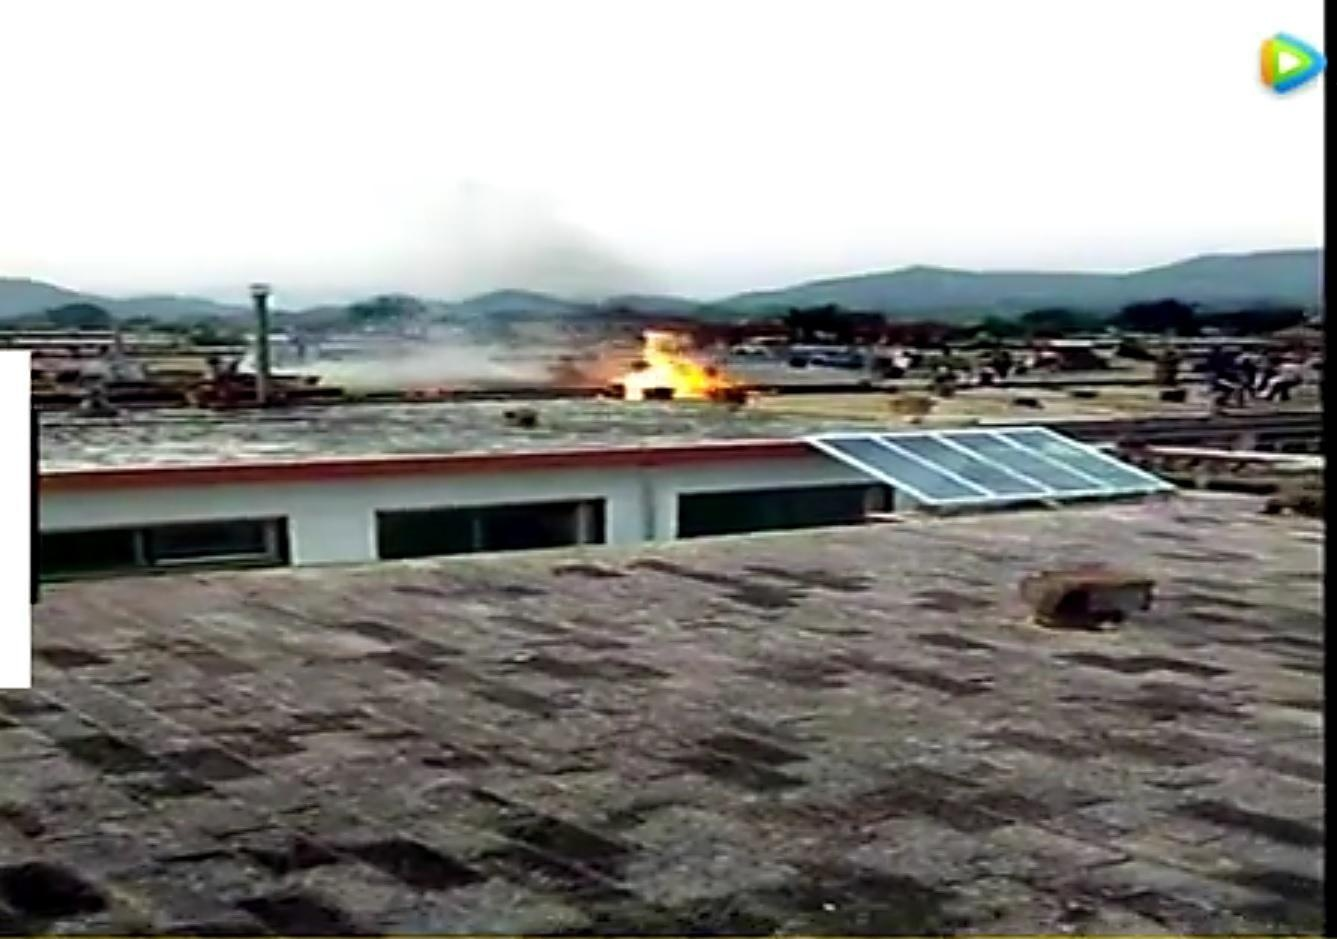fire: (604, 320, 743, 402)
